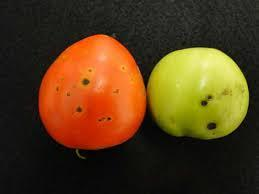tomato bacterial spot: (39, 36, 148, 149), (147, 49, 249, 142)
